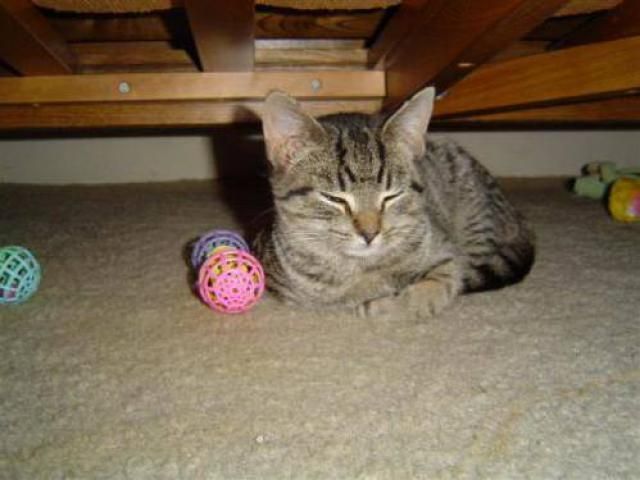cat: (240, 79, 537, 317)
